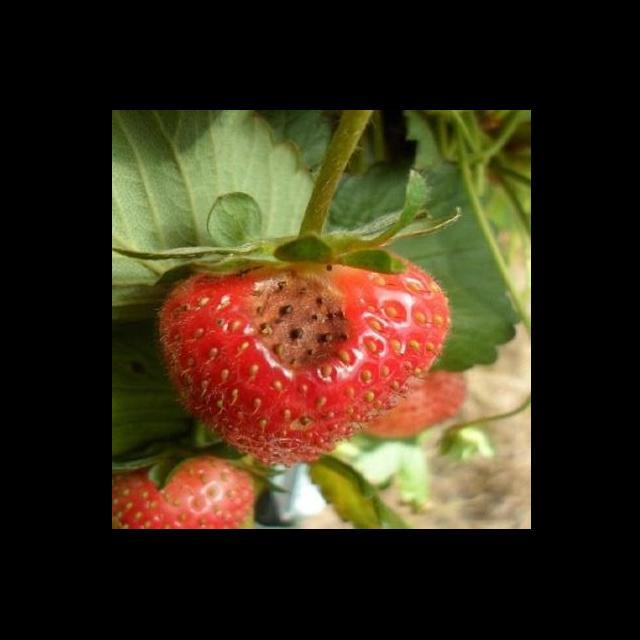Anthracnose Fruit Rot: (240, 265, 355, 383)
